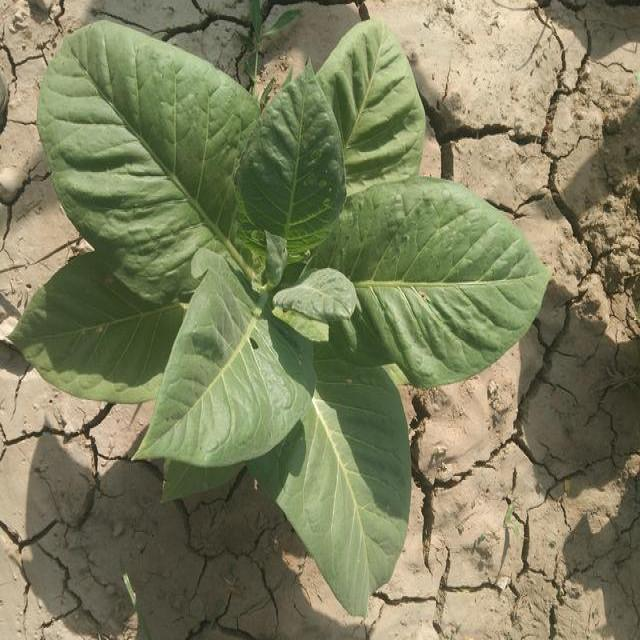crop: (6, 42, 538, 606)
